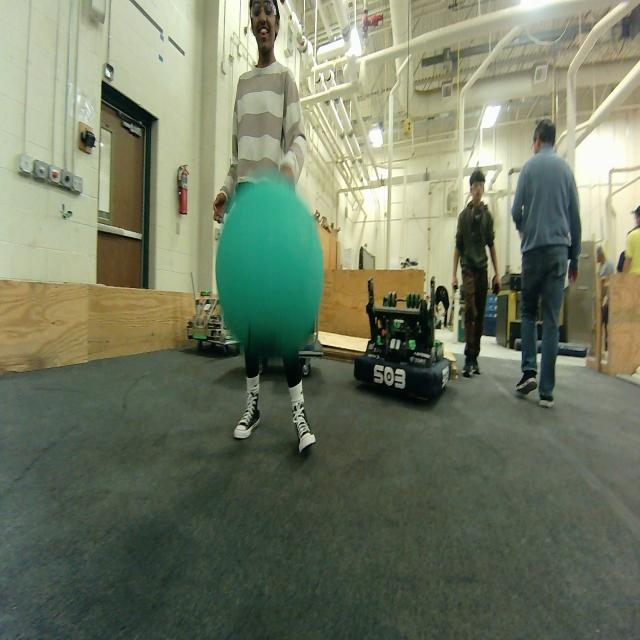algae: (218, 170, 322, 363)
